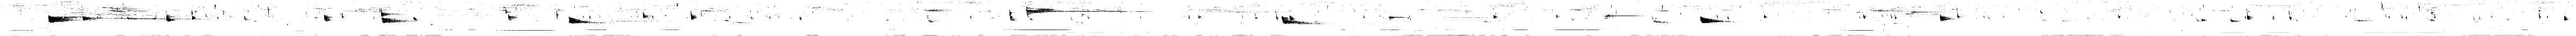meteor: (1025, 7, 1127, 18), (1281, 16, 1318, 25), (48, 15, 80, 23), (568, 16, 600, 23), (381, 8, 401, 18), (1700, 16, 1730, 23), (381, 18, 409, 23), (1605, 15, 1641, 18), (927, 15, 938, 23), (1009, 10, 1017, 21), (1651, 18, 1669, 23), (82, 15, 99, 20), (166, 13, 176, 21), (508, 13, 517, 21), (642, 11, 652, 20), (925, 8, 950, 11), (1940, 15, 1952, 21), (2246, 8, 2252, 20), (1388, 16, 1410, 20), (192, 10, 197, 21), (2229, 18, 2241, 23), (324, 15, 332, 21), (690, 11, 697, 20), (1290, 15, 1296, 21), (2563, 16, 2569, 21), (245, 16, 251, 21), (412, 16, 417, 21), (1275, 13, 1278, 20), (2201, 18, 2206, 21), (2430, 18, 2435, 21), (1764, 15, 1768, 18)
